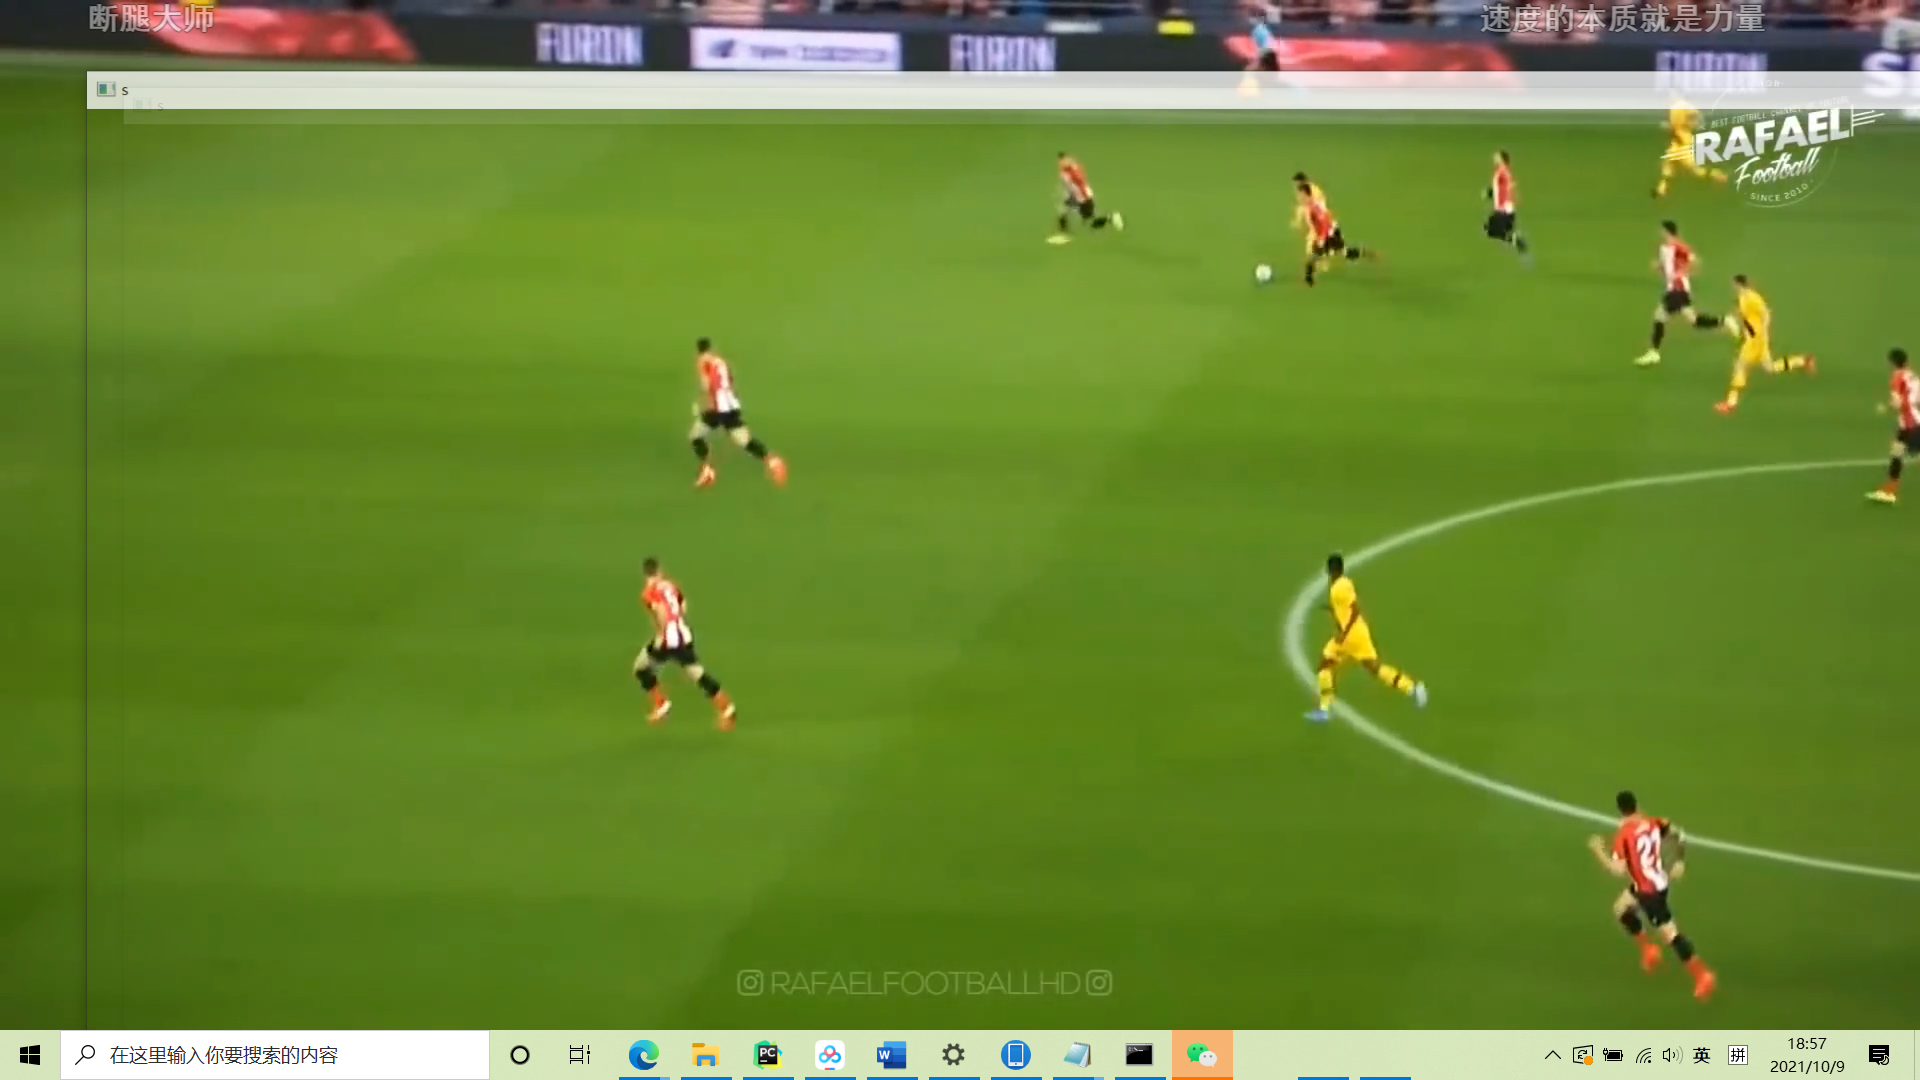ft: (1254, 262, 1276, 284)
